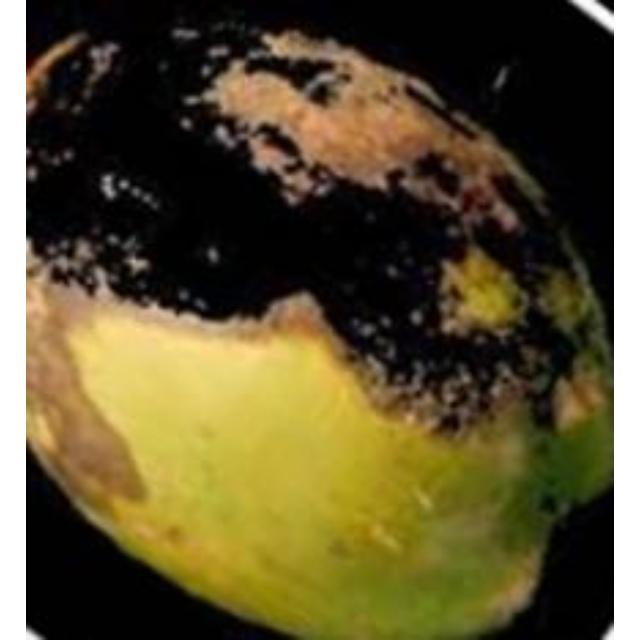damaged: (26, 27, 611, 637)
